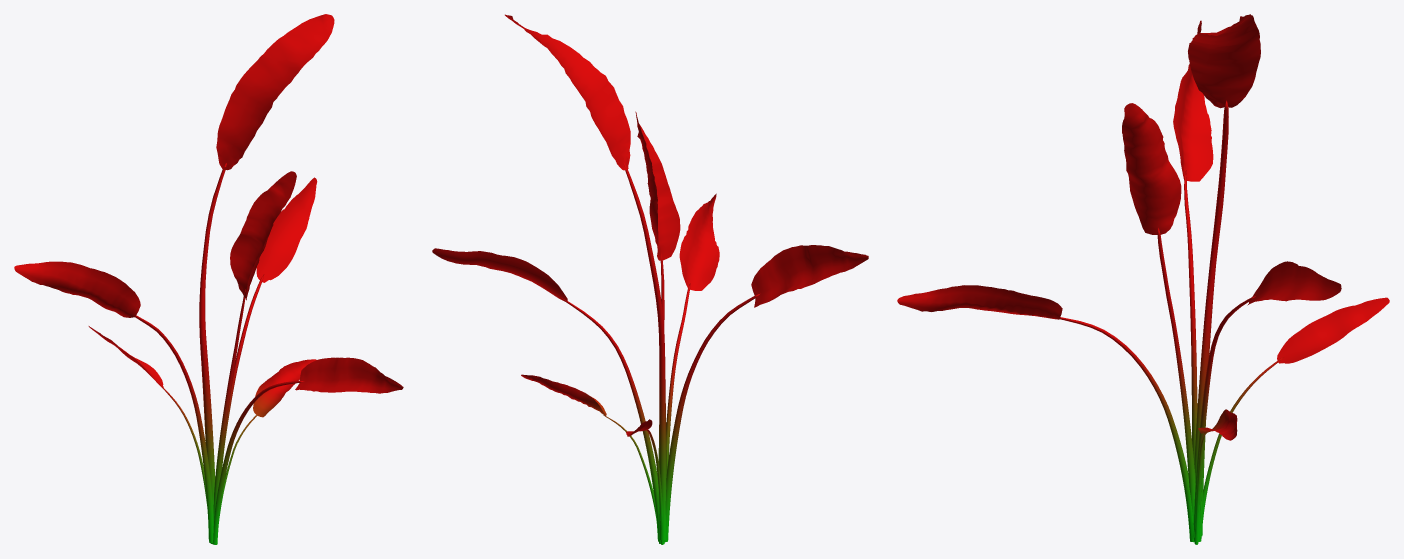
Rendered from Bird Of Paradise_LOD1_Var8_wfypeifha.fbx.
3 views of the same model, side by side, from view 1: azimuth 30°, elevation 25°; view 2: azimuth 150°, elevation 25°; view 3: azimuth 270°, elevation 25° (orthographic). The views are drawn at different scales.
Visible parts, largest first — view 1: _ngx3_Var8_LOD1; view 2: _ngx3_Var8_LOD1; view 3: _ngx3_Var8_LOD1.
Part boxes in pixels (box(x1,y1,x2,y2)): _ngx3_Var8_LOD1: box(14, 14, 403, 544); _ngx3_Var8_LOD1: box(432, 14, 868, 544); _ngx3_Var8_LOD1: box(897, 14, 1389, 544).
Bounding box in the file's own units: 141 × 182 × 135.
